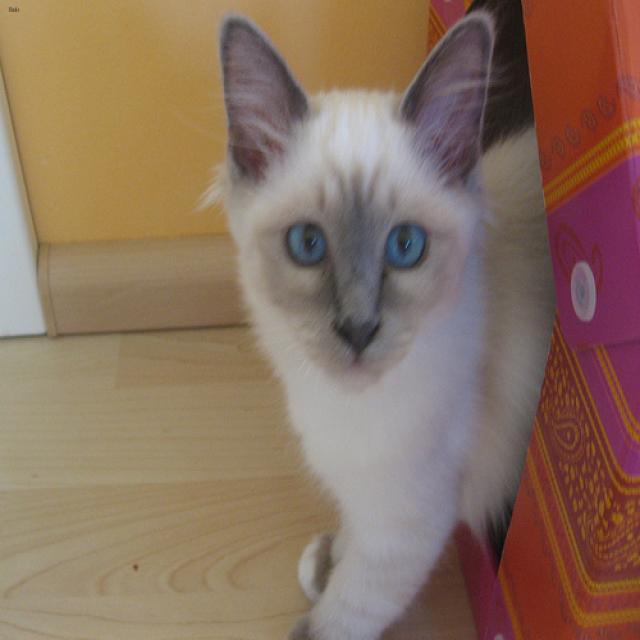Birman: (204, 6, 503, 394)
